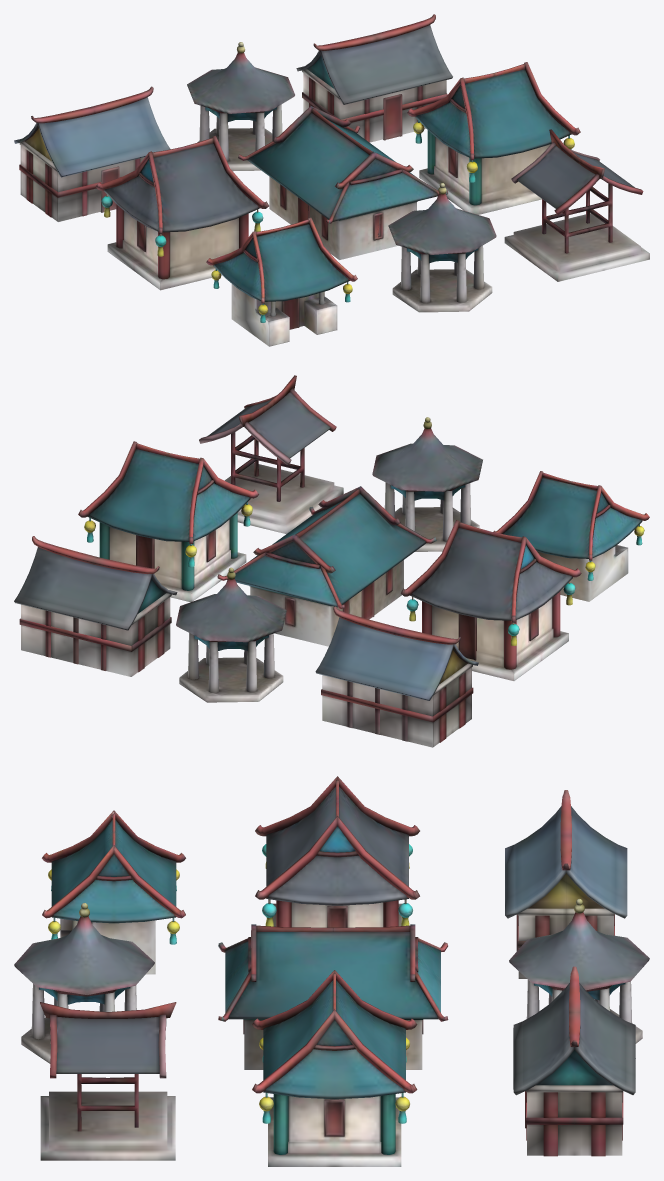
The model's file is city_chinese_0.glb.
3 views of the same model, one above another, from view 1: azimuth 30°, elevation 25°; view 2: azimuth 150°, elevation 25°; view 3: azimuth 270°, elevation 25° (orthographic). The views are drawn at different scales.
Visible parts, largest first — view 1: low.126, low.118, low.121, low.123, low.124, low.122, low.125, low.134, low.129; view 2: low.126, low.121, low.118, low.123, low.124, low.125, low.122, low.129, low.134; view 3: low.121, low.118, low.125, low.126, low.123, low.122, low.124, low.134, low.129.
Boxes of the visible parts, box(x1,y1,x2,y2) form: low.126: box(95, 135, 268, 290); low.118: box(238, 106, 447, 259); low.121: box(407, 62, 580, 214); low.123: box(296, 14, 452, 142); low.124: box(14, 86, 170, 221); low.122: box(206, 217, 357, 346); low.125: box(504, 129, 649, 281); low.134: box(388, 183, 496, 312); low.129: box(187, 42, 294, 171); low.126: box(400, 520, 581, 680); low.121: box(78, 441, 258, 602); low.118: box(217, 486, 436, 646); low.123: box(14, 536, 177, 676); low.124: box(315, 606, 478, 747); low.125: box(199, 375, 343, 533); low.122: box(493, 471, 649, 601); low.129: box(176, 567, 286, 702); low.134: box(372, 417, 482, 551); low.121: box(252, 970, 417, 1166); low.118: box(218, 924, 448, 1069); low.125: box(40, 1002, 176, 1160); low.126: box(255, 776, 419, 927); low.123: box(513, 966, 635, 1156); low.122: box(42, 810, 185, 974); low.124: box(505, 790, 627, 978); low.134: box(14, 903, 154, 1063); low.129: box(509, 898, 649, 1043).
Bounding box in the file's own units: 16.86 × 4.49 × 17.15.
Materials: 3 (3 with a texture image).
